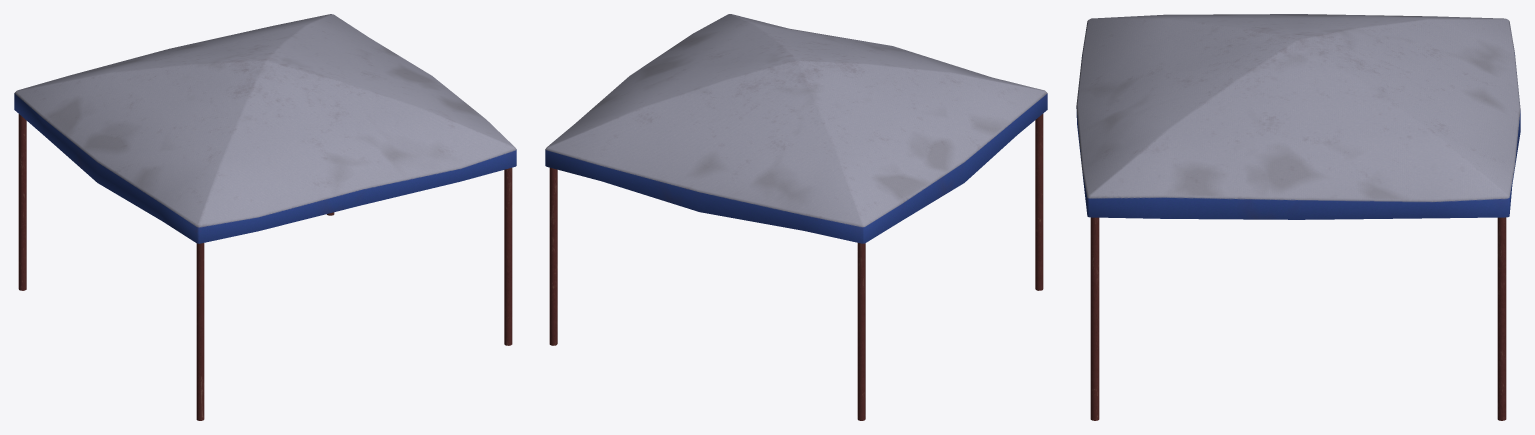
File: SM_Roof.fbx
3 renders of one model, left to right at view 1: azimuth 30°, elevation 25°; view 2: azimuth 150°, elevation 25°; view 3: azimuth 270°, elevation 25°, orthographic. The views are drawn at different scales.
Visible parts, largest first — view 1: SM_Roof; view 2: SM_Roof; view 3: SM_Roof.
Part boxes in pixels (x1,y1,x2,y2): SM_Roof: (14, 14, 516, 420); SM_Roof: (545, 14, 1047, 420); SM_Roof: (1076, 14, 1520, 420).
Bounding box in the file's own units: 295 × 215 × 295.
